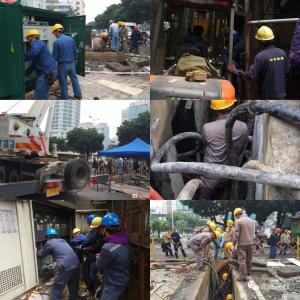blue: (101, 214, 121, 239), (45, 229, 58, 241), (88, 215, 97, 228), (233, 31, 241, 45)
none: (193, 25, 205, 38), (167, 229, 172, 234), (172, 230, 176, 235), (285, 230, 289, 235)
red: (276, 229, 282, 236), (135, 26, 139, 31), (93, 157, 97, 161)
yellow: (210, 99, 236, 118), (257, 27, 275, 48), (27, 30, 40, 44), (53, 23, 65, 38), (92, 218, 103, 233), (234, 209, 244, 220), (73, 228, 82, 238), (213, 232, 222, 241), (227, 243, 235, 252), (209, 224, 217, 232), (228, 221, 235, 229), (223, 274, 229, 282), (207, 222, 213, 228), (104, 33, 109, 39), (122, 23, 127, 29), (110, 21, 115, 26), (96, 34, 100, 39), (105, 163, 109, 167), (125, 159, 128, 161)
